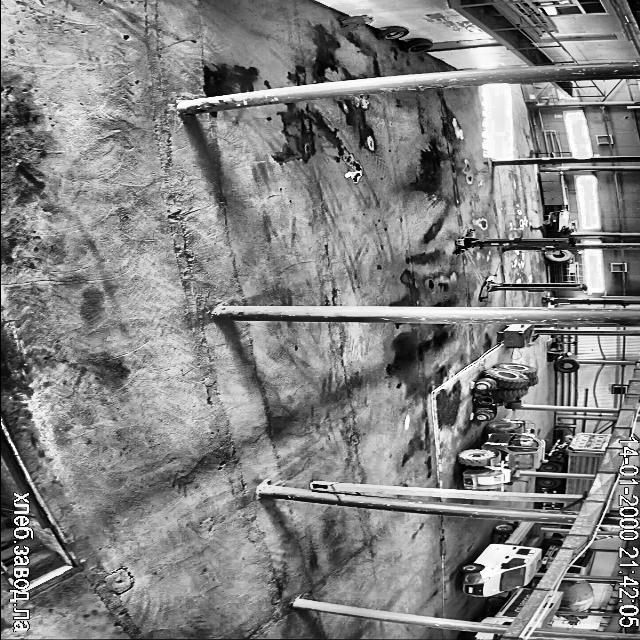car lift: (479, 275, 588, 300), (454, 230, 574, 252)
tractor: (459, 420, 544, 489), (475, 362, 538, 420)
truck: (461, 521, 540, 596), (539, 432, 612, 472), (483, 588, 532, 624), (558, 580, 594, 621), (538, 592, 562, 628), (538, 477, 591, 493), (541, 537, 562, 571), (567, 548, 594, 574), (462, 632, 500, 640), (542, 499, 563, 508), (570, 504, 580, 510)
